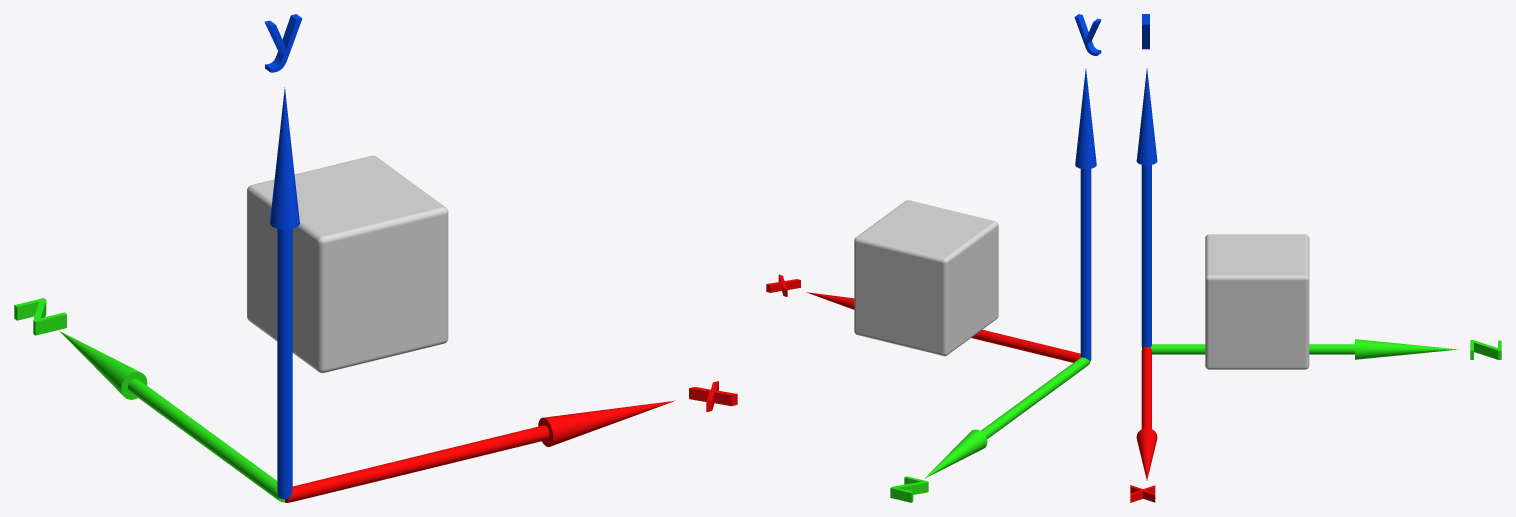
The picture shows the model from 3 angles, left to right: view 1: azimuth 30°, elevation 25°; view 2: azimuth 150°, elevation 25°; view 3: azimuth 270°, elevation 25°; orthographic projection. The views are drawn at different scales.
Visible parts, largest first — view 1: 009_Box_-_baked_1, 006_Cylinder_1, 008_Cylinder_1, 004_Cylinder_1, 005_Cone_1, 007_Cone_1, 003_Cone_1, 002_3D_Text_1_-_z, 000_3D_Text_3_-_y, 001_3D_Text_2_-_x; view 2: 009_Box_-_baked_1, 006_Cylinder_1, 004_Cylinder_1, 005_Cone_1, 008_Cylinder_1, 003_Cone_1, 002_3D_Text_1_-_z, 000_3D_Text_3_-_y, 001_3D_Text_2_-_x; view 3: 009_Box_-_baked_1, 006_Cylinder_1, 003_Cone_1, 005_Cone_1, 004_Cylinder_1, 008_Cylinder_1, 007_Cone_1, 002_3D_Text_1_-_z.
Part boxes in pixels (x1=…): 009_Box_-_baked_1: x1=247, y1=155, x2=448, y2=373; 006_Cylinder_1: x1=277, y1=228, x2=292, y2=498; 008_Cylinder_1: x1=285, y1=425, x2=549, y2=502; 004_Cylinder_1: x1=128, y1=378, x2=284, y2=502; 005_Cone_1: x1=270, y1=87, x2=299, y2=229; 007_Cone_1: x1=538, y1=400, x2=675, y2=446; 003_Cone_1: x1=59, y1=331, x2=147, y2=399; 002_3D_Text_1_-_z: x1=14, y1=298, x2=66, y2=335; 000_3D_Text_3_-_y: x1=264, y1=14, x2=302, y2=72; 001_3D_Text_2_-_x: x1=689, y1=381, x2=737, y2=412; 009_Box_-_baked_1: x1=854, y1=200, x2=998, y2=356; 006_Cylinder_1: x1=1080, y1=169, x2=1091, y2=361; 004_Cylinder_1: x1=981, y1=357, x2=1090, y2=439; 005_Cone_1: x1=1075, y1=68, x2=1096, y2=169; 008_Cylinder_1: x1=971, y1=329, x2=1080, y2=362; 003_Cone_1: x1=924, y1=429, x2=987, y2=478; 002_3D_Text_1_-_z: x1=890, y1=476, x2=928, y2=502; 000_3D_Text_3_-_y: x1=1074, y1=14, x2=1101, y2=55; 001_3D_Text_2_-_x: x1=766, y1=274, x2=800, y2=296; 009_Box_-_baked_1: x1=1205, y1=234, x2=1309, y2=369; 006_Cylinder_1: x1=1141, y1=165, x2=1151, y2=348; 003_Cone_1: x1=1355, y1=339, x2=1458, y2=359; 005_Cone_1: x1=1136, y1=68, x2=1157, y2=165; 004_Cylinder_1: x1=1150, y1=344, x2=1354, y2=354; 008_Cylinder_1: x1=1141, y1=347, x2=1151, y2=428; 007_Cone_1: x1=1136, y1=428, x2=1157, y2=480; 002_3D_Text_1_-_z: x1=1470, y1=340, x2=1501, y2=359.
Size of the model in its own units: 35.17 by 35.95 by 35.7.
